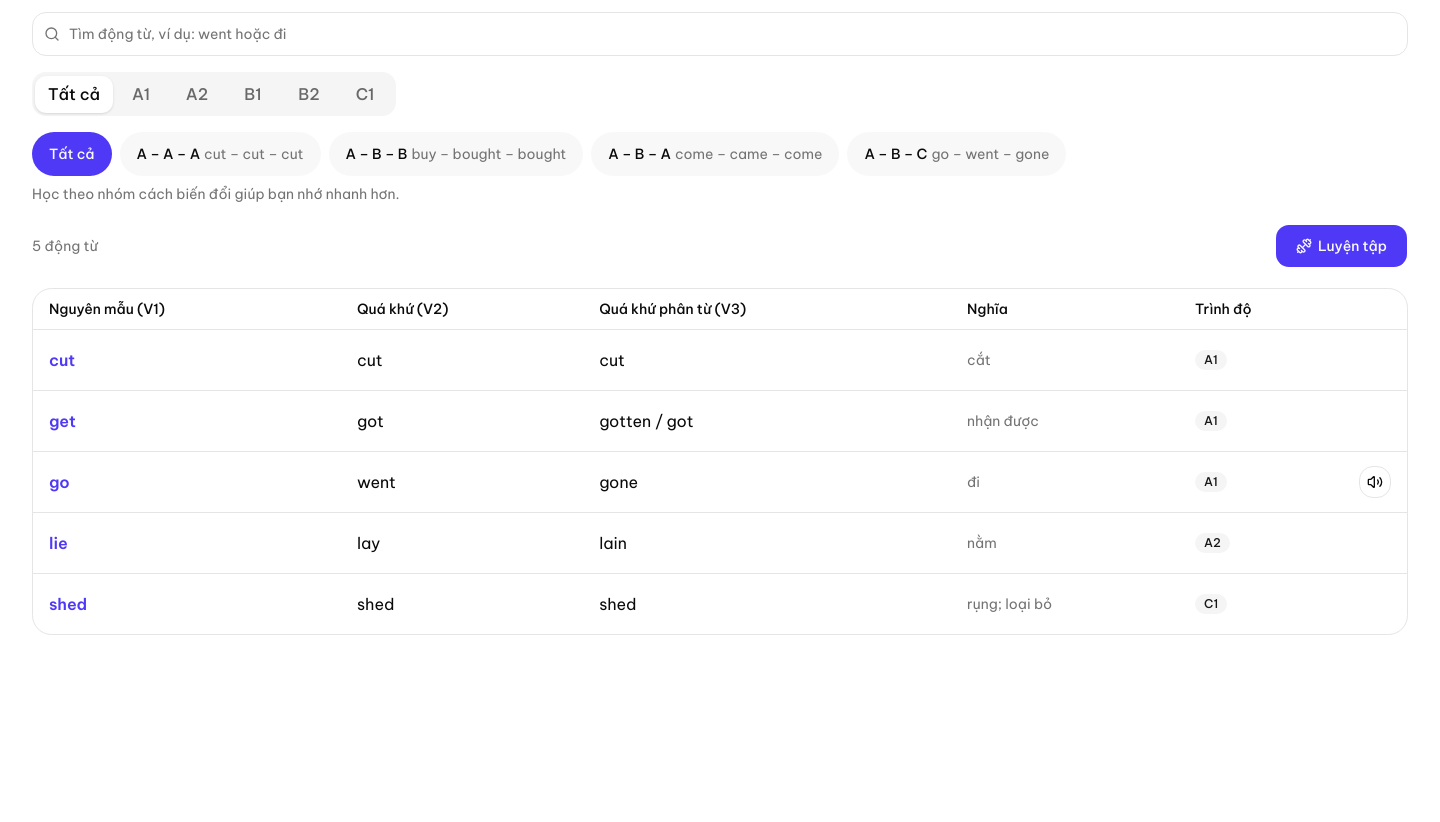
VerbsBrowser › filters by pattern, and keeps it in the address (AC-004)
The image size is (1440, 822).
Step 1. Click the button with aria-label "A – A – A, ví dụ cut – cut – cut" → point(220, 154), box [120,132,320,176]
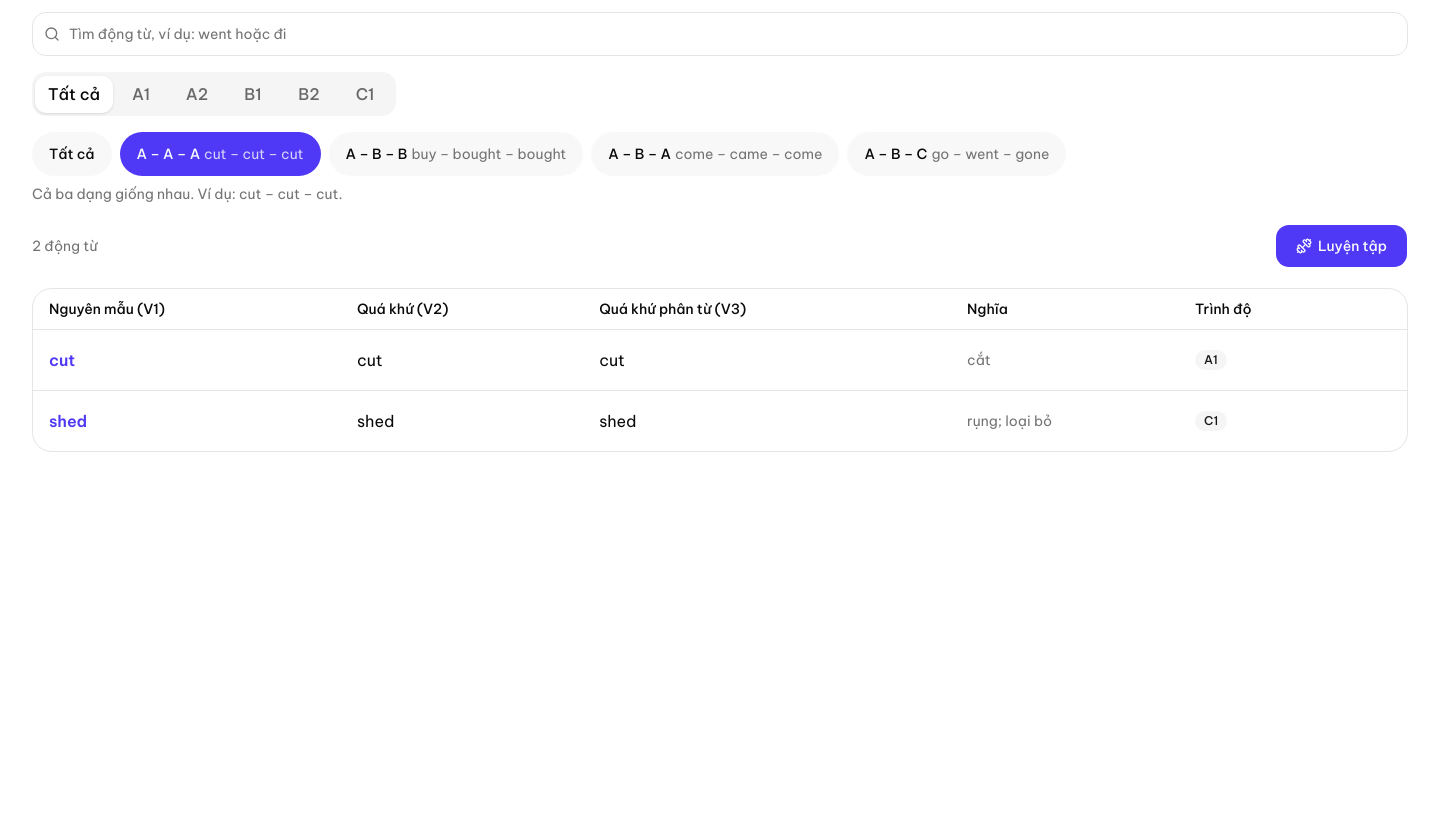
Now the text "Cả ba dạng giống nhau. Ví dụ: cut – cut – cut." is shown, box [32,185,342,203]
